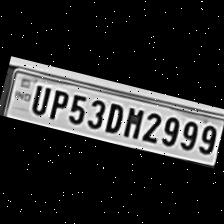2: (138, 106, 162, 144)
3: (82, 93, 108, 131)
5: (62, 88, 90, 127)
9: (156, 110, 182, 148), (194, 119, 220, 156), (176, 116, 200, 152)
D: (99, 98, 126, 136)
M: (119, 102, 146, 140)
P: (43, 85, 70, 122)
U: (25, 80, 51, 117)
